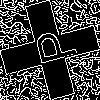P: (25, 25, 78, 69)
